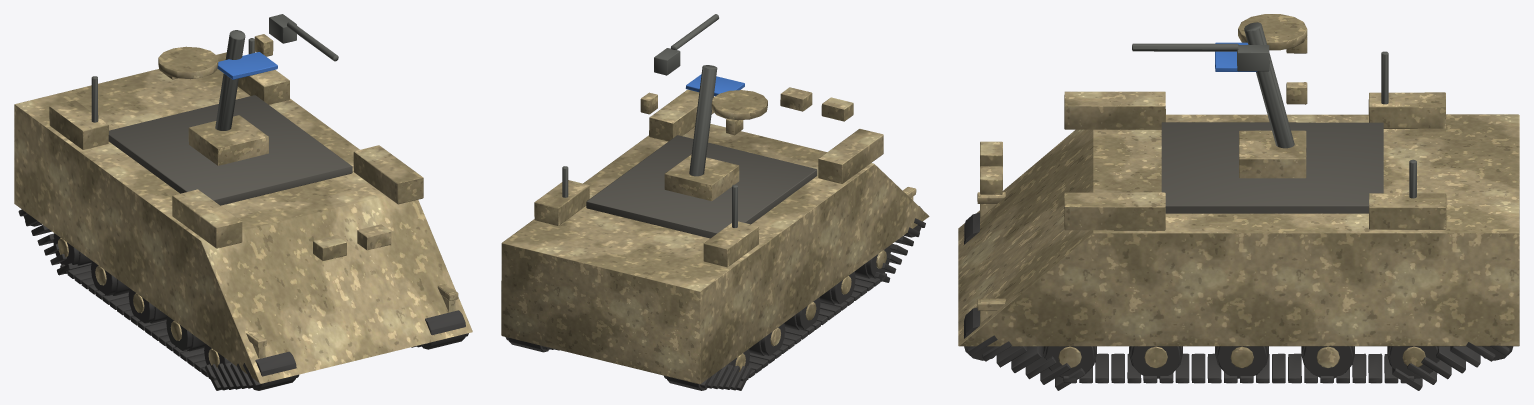
The model's file is art_e4_us_mortar_LOD1.glb.
The picture shows the model from 3 angles, left to right: view 1: azimuth 30°, elevation 25°; view 2: azimuth 150°, elevation 25°; view 3: azimuth 270°, elevation 25°; orthographic projection. The views are drawn at different scales.
Visible parts, largest first — view 1: art_e4_us_mortar_LOD1_body, art_e4_us_mortar_LOD1_deck, art_e4_us_mortar_LOD1_track, art_e4_us_mortar_LOD1_gun, art_e4_us_mortar_LOD1_team; view 2: art_e4_us_mortar_LOD1_body, art_e4_us_mortar_LOD1_deck, art_e4_us_mortar_LOD1_track, art_e4_us_mortar_LOD1_gun, art_e4_us_mortar_LOD1_team; view 3: art_e4_us_mortar_LOD1_body, art_e4_us_mortar_LOD1_deck, art_e4_us_mortar_LOD1_track, art_e4_us_mortar_LOD1_gun, art_e4_us_mortar_LOD1_team.
Part boxes in pixels (<box>): art_e4_us_mortar_LOD1_body: <box>14,34,472,383</box>; art_e4_us_mortar_LOD1_deck: <box>108,95,352,205</box>; art_e4_us_mortar_LOD1_track: <box>18,209,468,390</box>; art_e4_us_mortar_LOD1_gun: <box>91,14,338,130</box>; art_e4_us_mortar_LOD1_team: <box>217,52,277,79</box>; art_e4_us_mortar_LOD1_body: <box>501,87,929,384</box>; art_e4_us_mortar_LOD1_deck: <box>586,135,817,238</box>; art_e4_us_mortar_LOD1_track: <box>505,206,925,390</box>; art_e4_us_mortar_LOD1_gun: <box>562,14,737,227</box>; art_e4_us_mortar_LOD1_team: <box>685,74,744,96</box>; art_e4_us_mortar_LOD1_body: <box>958,14,1519,367</box>; art_e4_us_mortar_LOD1_deck: <box>1161,122,1383,213</box>; art_e4_us_mortar_LOD1_track: <box>964,212,1513,390</box>; art_e4_us_mortar_LOD1_gun: <box>1132,22,1416,198</box>; art_e4_us_mortar_LOD1_team: <box>1215,42,1256,71</box>.
Bounding box in the file's own units: 2.9 × 3.57 × 5.79.
5 materials, 1 textured.
